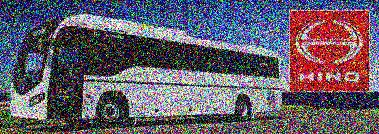bus: (11, 13, 280, 127)
